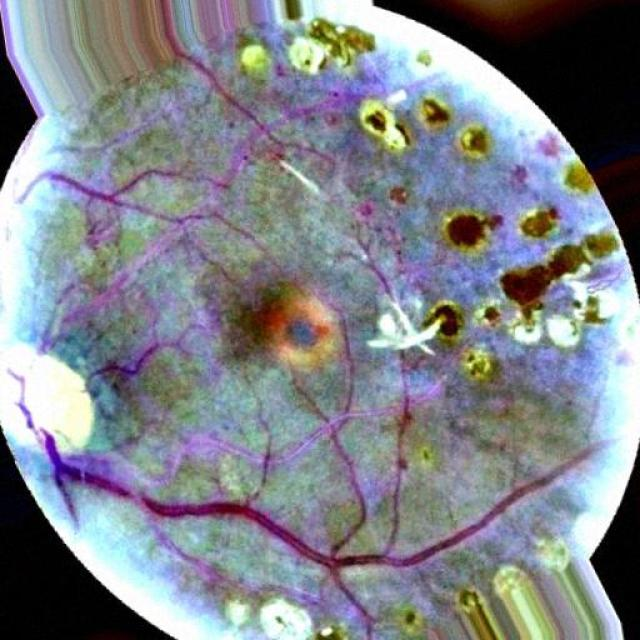Macula: (268, 295, 338, 364)
Nerves: (6, 320, 601, 626), (36, 272, 126, 354), (86, 320, 206, 381), (30, 171, 129, 206), (155, 530, 210, 568)
Optic Disk: (0, 342, 95, 451)
